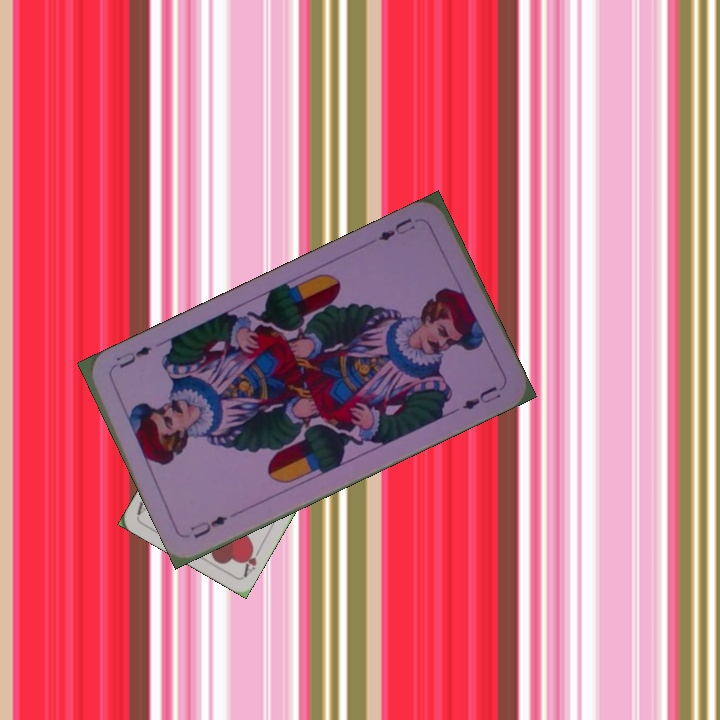EU: (374, 213, 418, 244), (186, 511, 230, 541)
HA: (239, 541, 265, 580)
